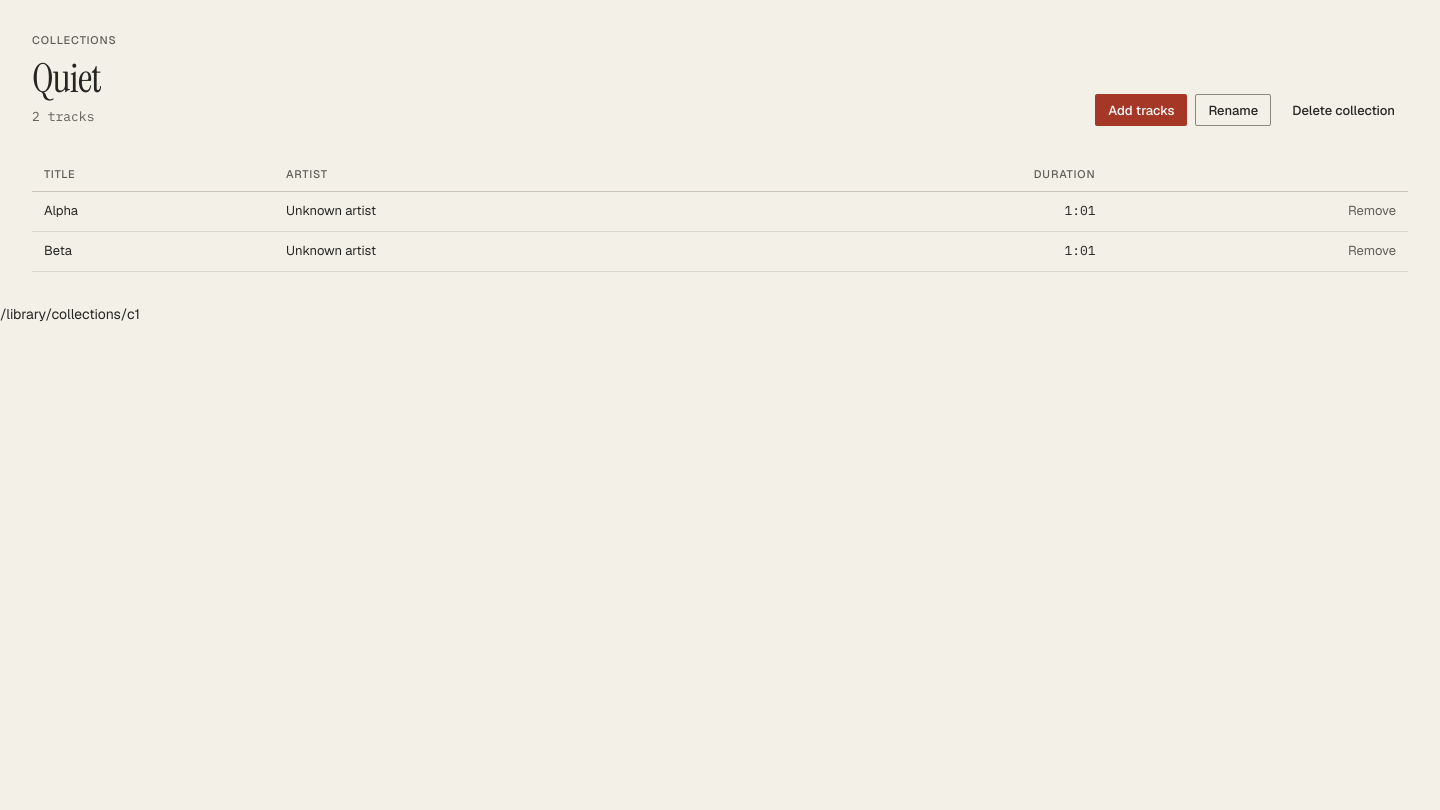
Test: Collections › adds tracks, marking current members as already present
Click the button "Add tracks": (1141,110) [1095,94,1188,126]
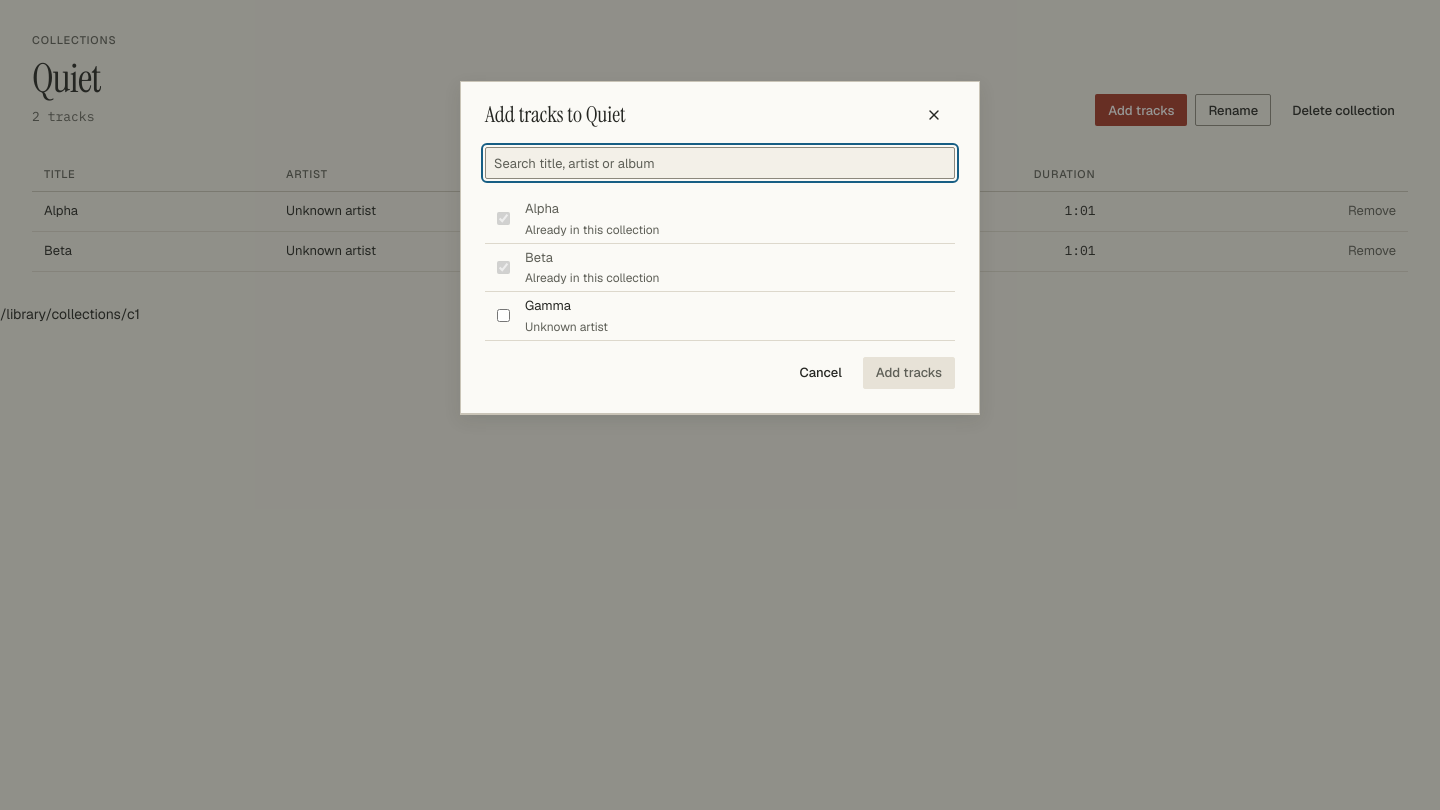
Expected: the checkbox labelled "Alpha Already in this collection" is checked, [497,212,510,225]
Expected: the checkbox labelled "Alpha Already in this collection" is disabled, [497,212,510,225]
Click the checkbox labelled "Gamma Unknown artist": (504,316) [497,309,510,322]
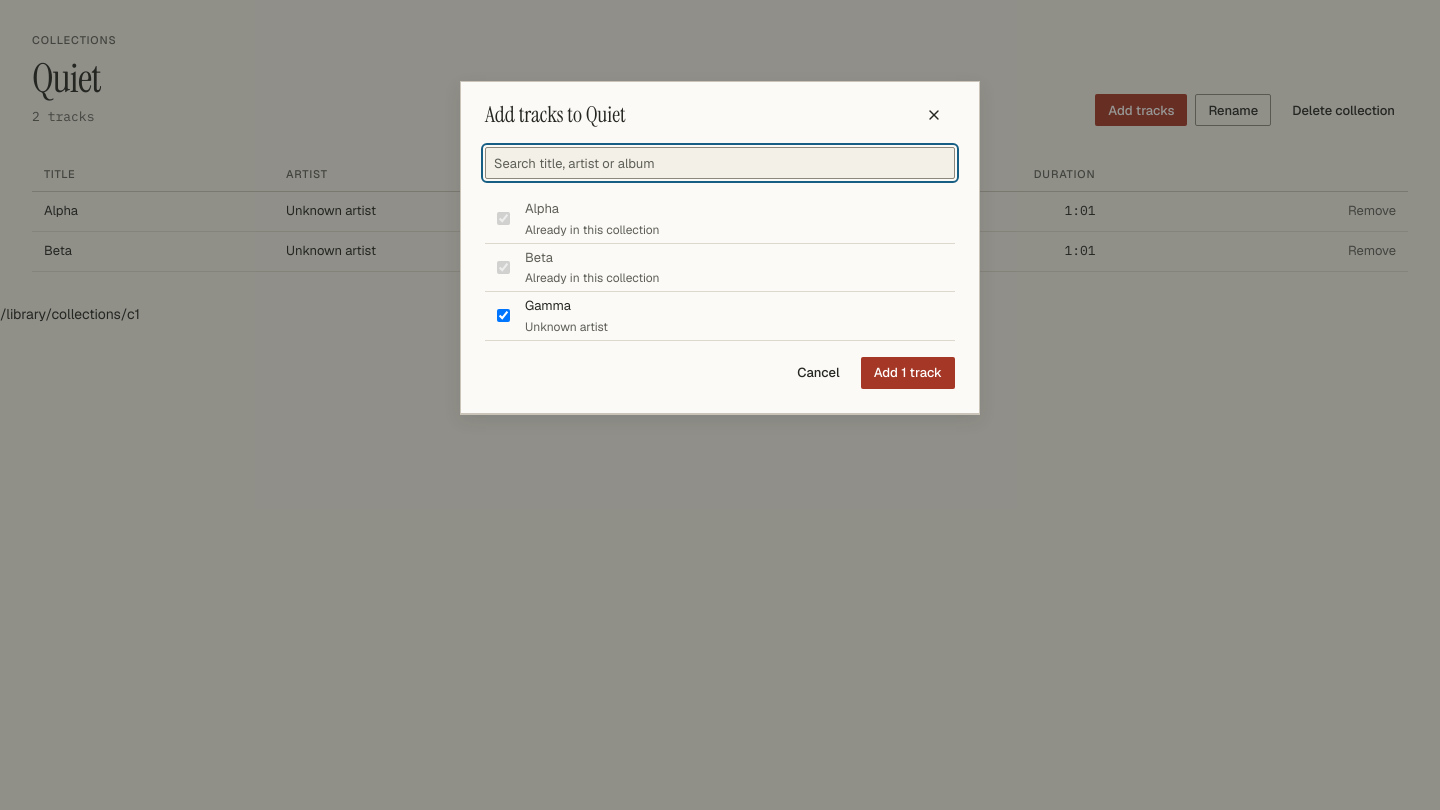
Click the button "Add 1 track": (908,372) [861,356,955,388]
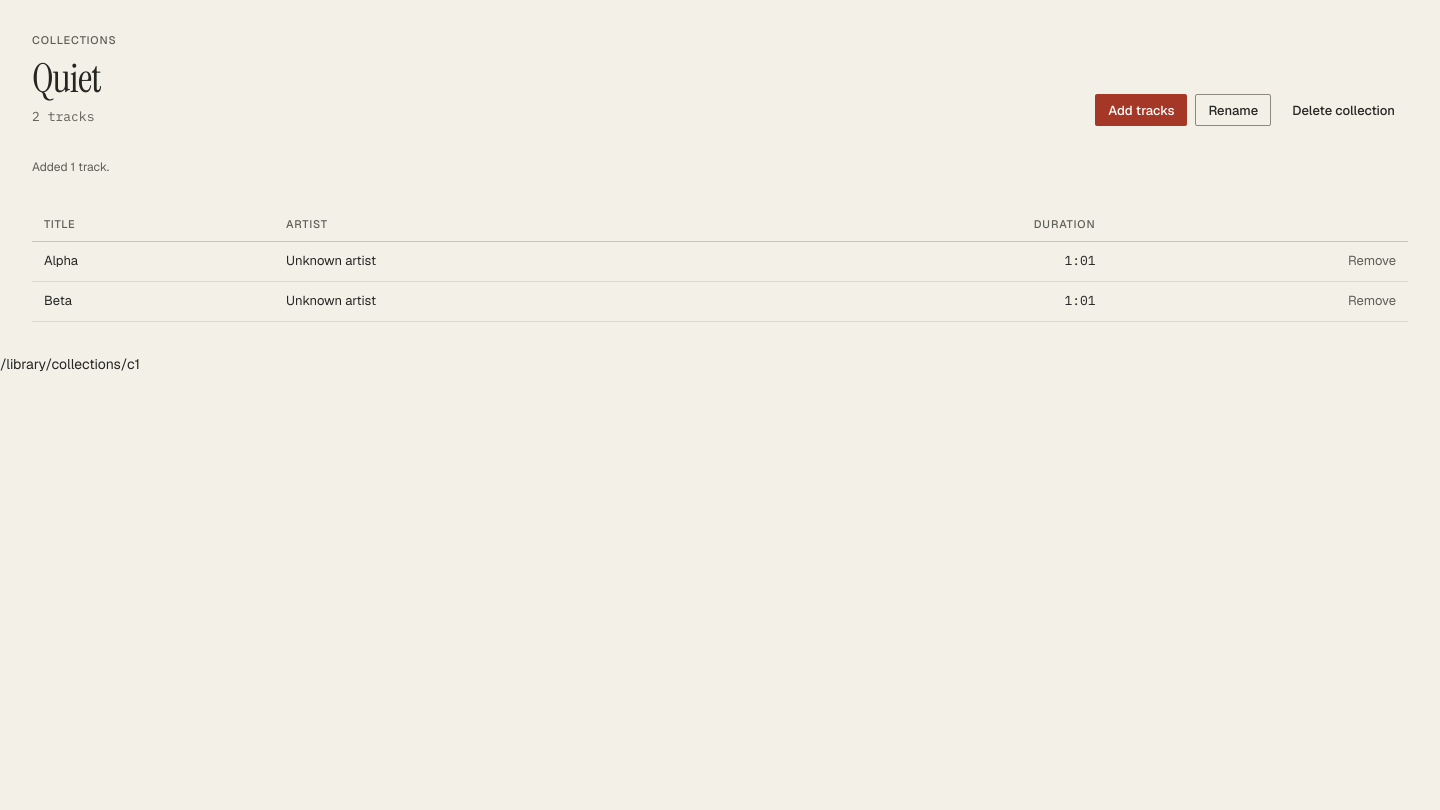
Expected: the text "Added 1 track." is shown, [32,159,109,175]
